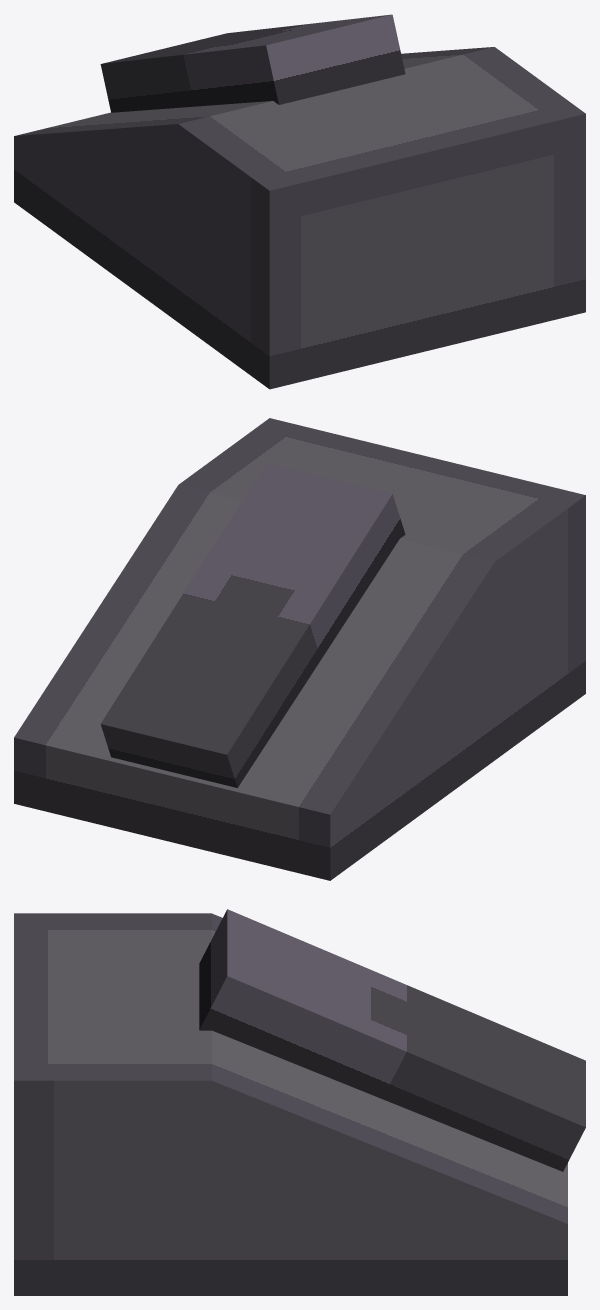
Rendered from Phone.fbx.
3 renders of one model, top to bottom at view 1: azimuth 30°, elevation 25°; view 2: azimuth 150°, elevation 25°; view 3: azimuth 270°, elevation 25°, orthographic. The views are drawn at different scales.
Visible parts, largest first — view 1: mesh, cube; view 2: mesh, cube; view 3: mesh, cube.
Boxes of the visible parts, <box> form: mesh: <box>14,47,585,389</box>; cube: <box>100,14,405,112</box>; mesh: <box>14,418,585,880</box>; cube: <box>100,463,405,787</box>; mesh: <box>14,913,567,1295</box>; cube: <box>199,909,585,1171</box>.
Bounding box in the file's own units: 31.25 × 23.5 × 45.17.
1 material, 1 textured.
